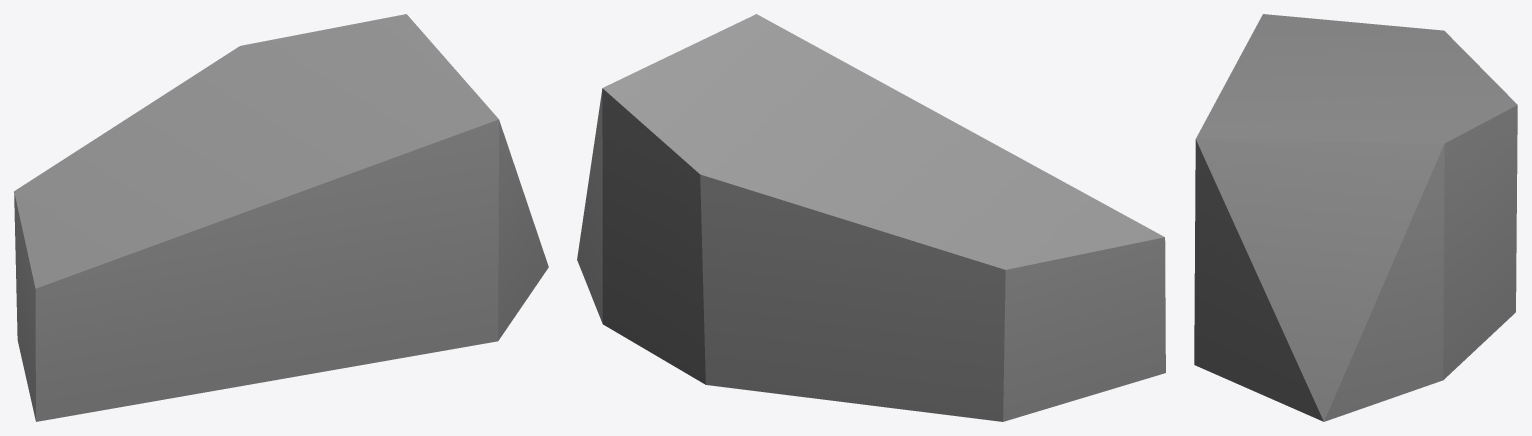
File: stone small 9.fbx
3 views of the same model, side by side, from view 1: azimuth 30°, elevation 25°; view 2: azimuth 150°, elevation 25°; view 3: azimuth 270°, elevation 25° (orthographic). The views are drawn at different scales.
Visible parts, largest first — view 1: stone small 9; view 2: stone small 9; view 3: stone small 9.
Boxes of the visible parts, left/top/right/bottom form: stone small 9: left=14, top=14, right=548, bottom=421; stone small 9: left=577, top=14, right=1165, bottom=421; stone small 9: left=1194, top=14, right=1517, bottom=421.
Size of the model in its own units: 154 by 62.42 by 77.37.
